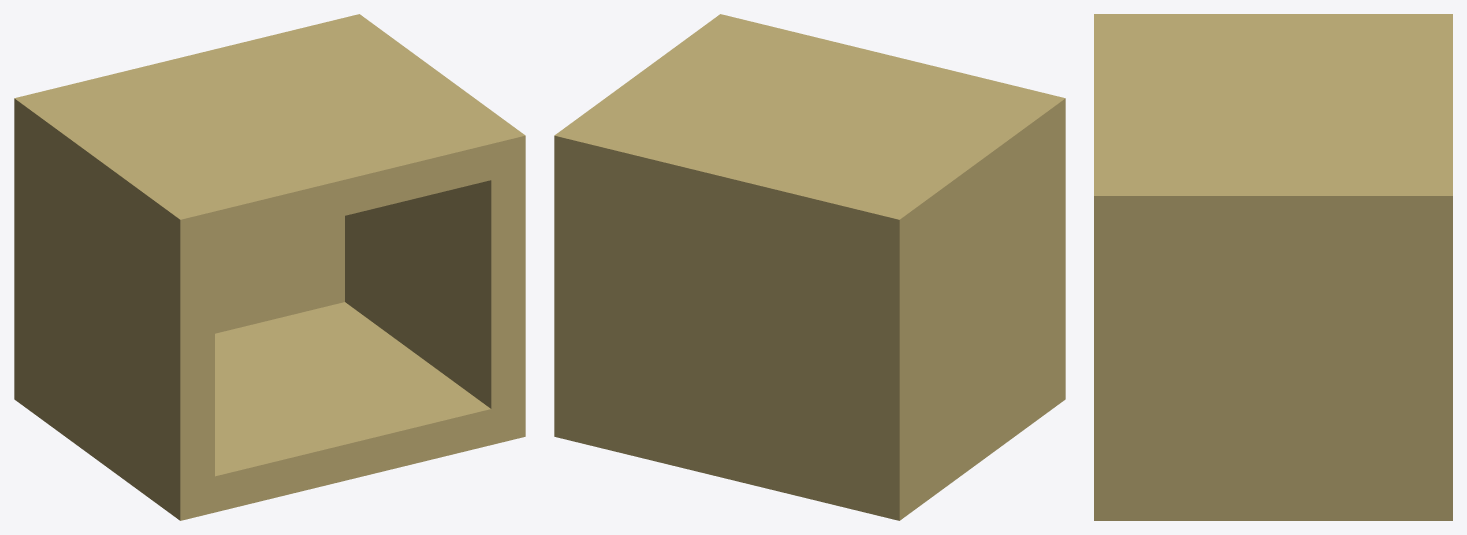
3 views of the same model, side by side, from view 1: azimuth 30°, elevation 25°; view 2: azimuth 150°, elevation 25°; view 3: azimuth 270°, elevation 25° (orthographic). The views are drawn at different scales.
Parts seen in each view (by area): view 1: world; view 2: world; view 3: world.
Part boxes in pixels (x1=…): world: x1=14, y1=14, x2=525, y2=520; world: x1=554, y1=14, x2=1065, y2=520; world: x1=1094, y1=14, x2=1452, y2=520.
Bounding box in the file's own units: 0.12 × 0.1 × 0.1.
